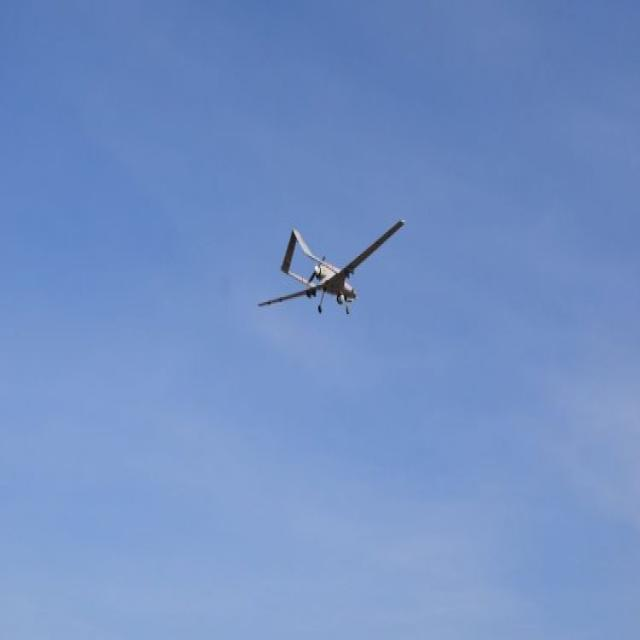iha: (250, 243, 400, 278)
